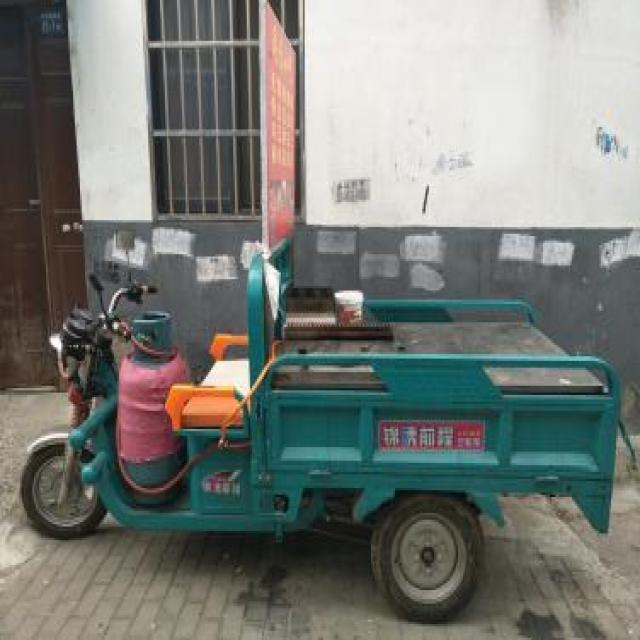tricycle: (21, 233, 620, 620)
